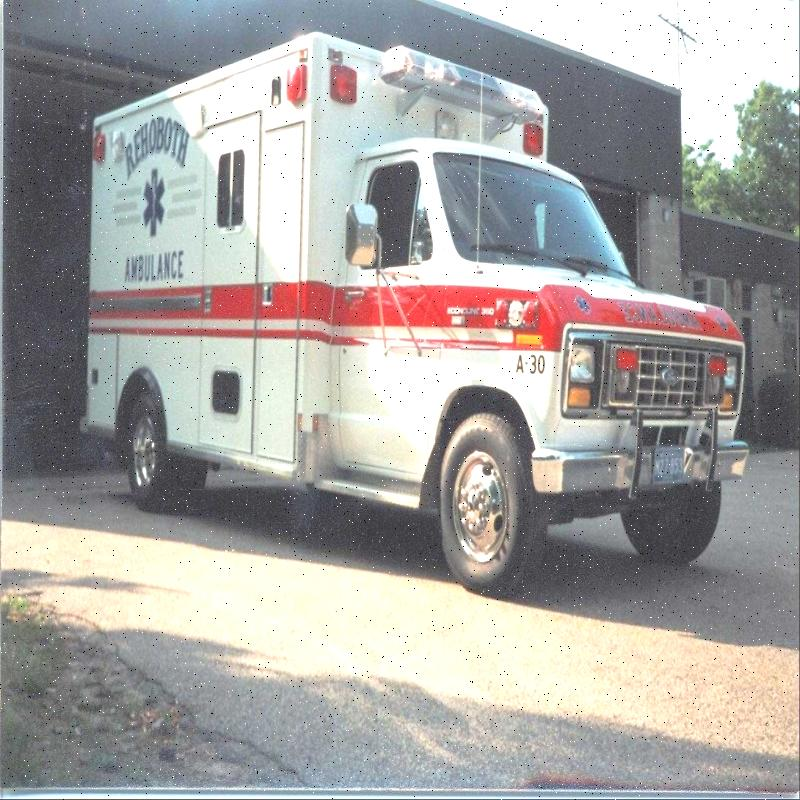AmbulanceSiren: (281, 52, 362, 120), (526, 118, 550, 170)
